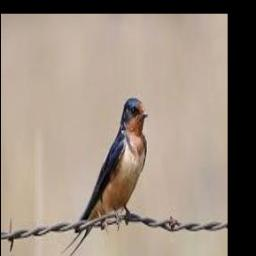Swallow: (61, 98, 149, 255)
